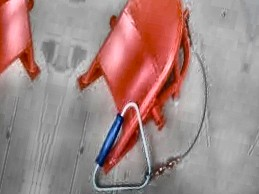chock: (58, 0, 207, 187), (0, 0, 65, 158)
